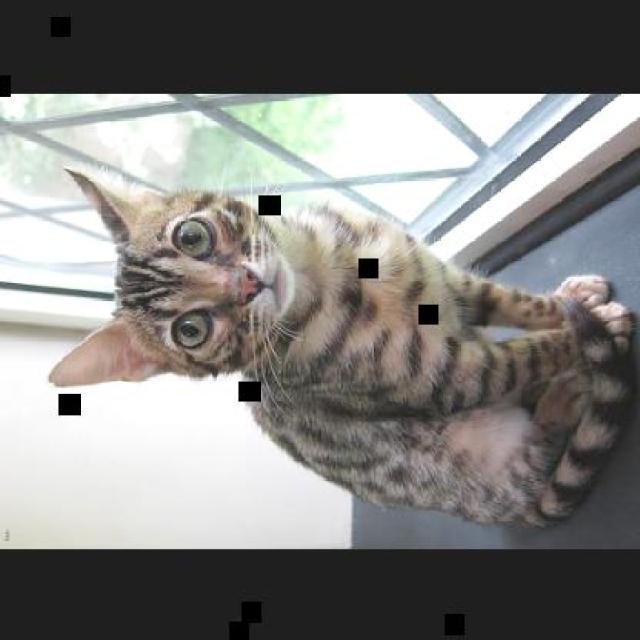unauthorized: (47, 163, 638, 529)
